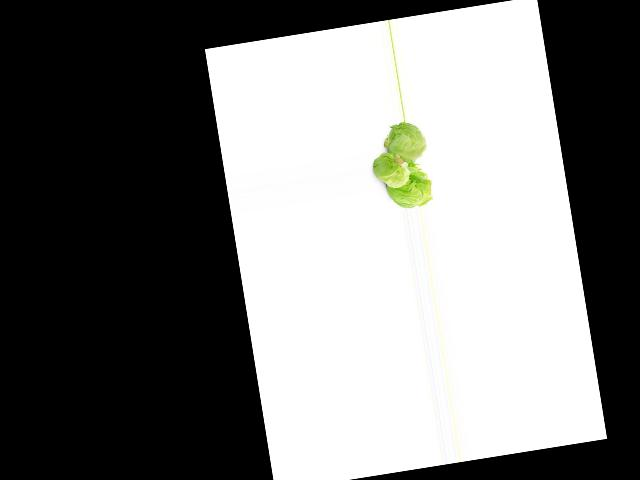lettuce: (387, 166, 432, 208)
